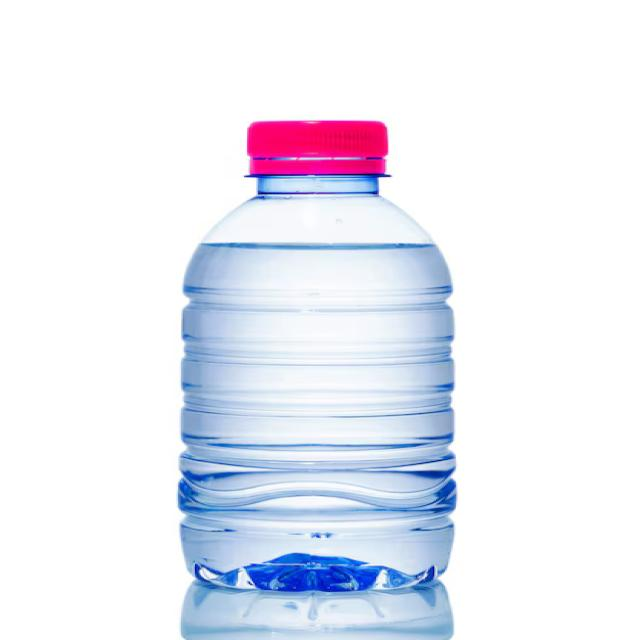Bottle: (175, 119, 462, 596)
